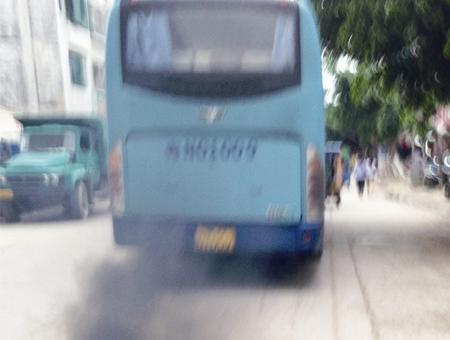smoke: (70, 232, 273, 340)
